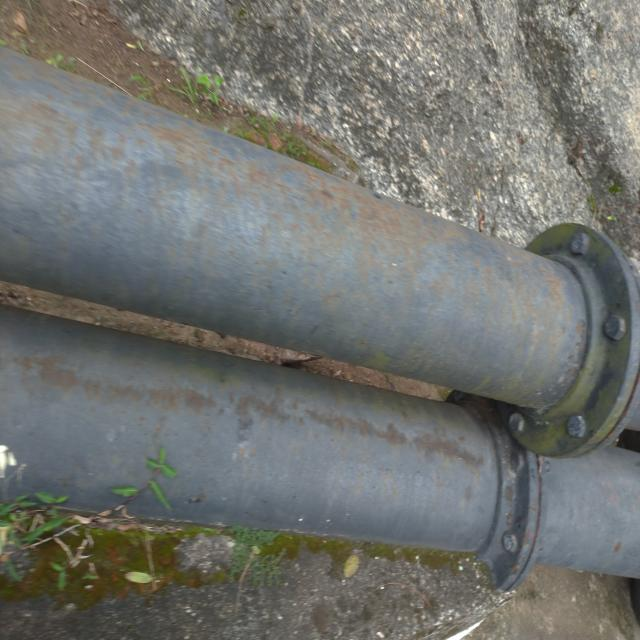gas: (7, 51, 622, 435), (19, 310, 617, 579)
